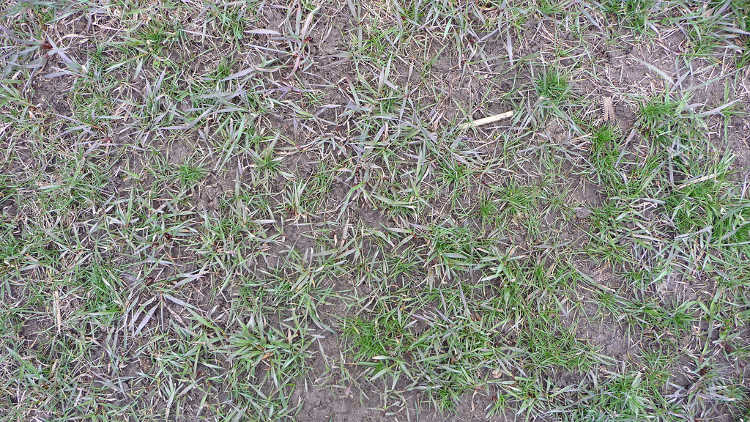crabgrass: (354, 302, 493, 399), (54, 258, 132, 332), (212, 316, 289, 378), (196, 206, 261, 260), (593, 367, 653, 422), (528, 69, 573, 113)
